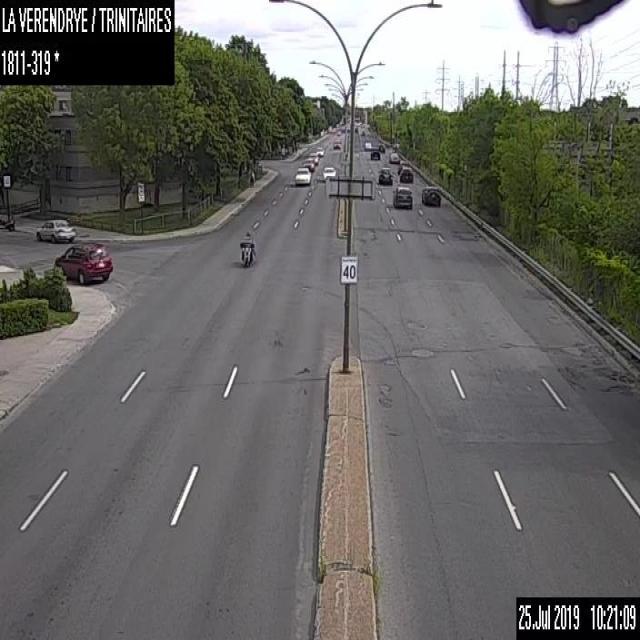pedestrian: (249, 168, 254, 186)
vehicle: (55, 242, 113, 283), (36, 218, 76, 242), (239, 230, 255, 266), (392, 185, 412, 208), (421, 185, 440, 205), (294, 166, 311, 185), (378, 166, 392, 185), (322, 162, 336, 178), (399, 166, 413, 182), (302, 156, 314, 170), (397, 160, 409, 173), (308, 151, 318, 163), (389, 151, 399, 161), (370, 148, 380, 158), (364, 140, 371, 150), (333, 138, 340, 148), (316, 146, 323, 156), (378, 143, 385, 152)
